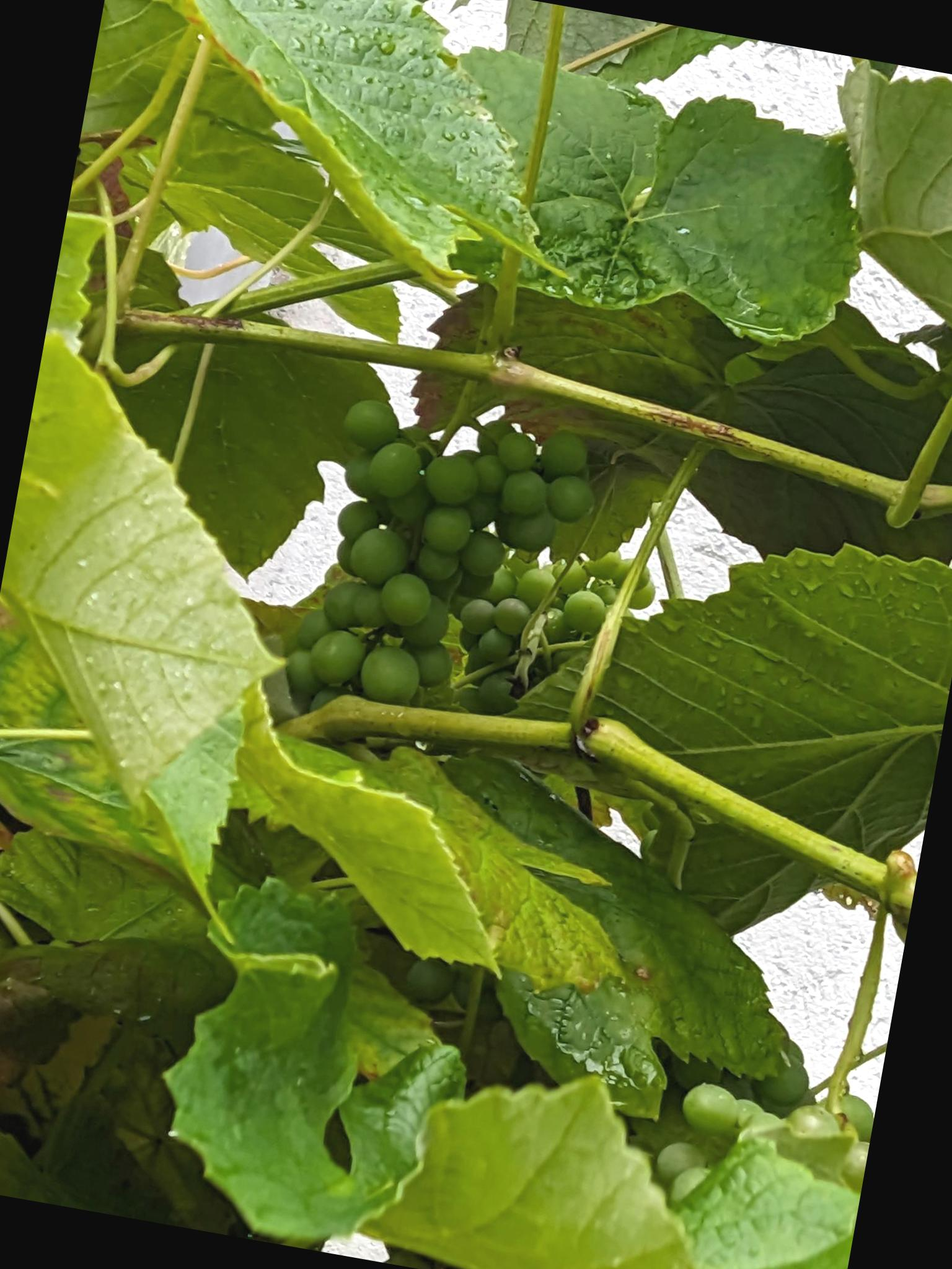Grape Unripe: (280, 385, 602, 739), (643, 1021, 885, 1245), (447, 523, 660, 734), (404, 953, 510, 1023)
